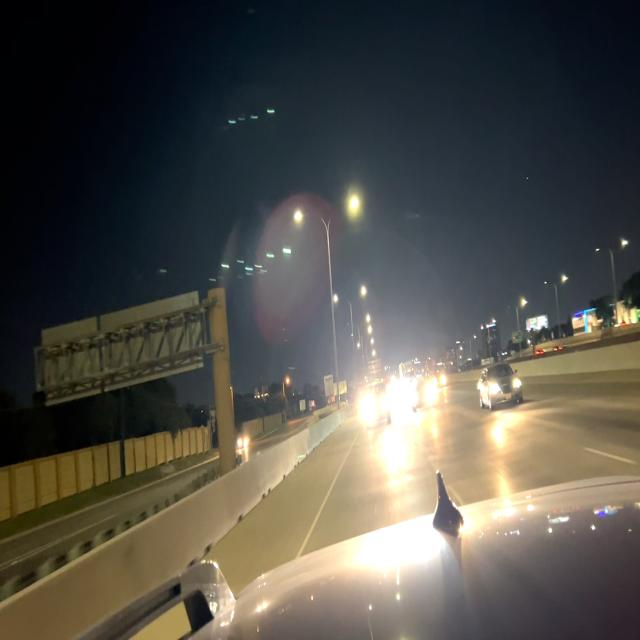back-of-sign: (39, 289, 205, 408), (324, 371, 335, 400), (368, 356, 382, 376)
